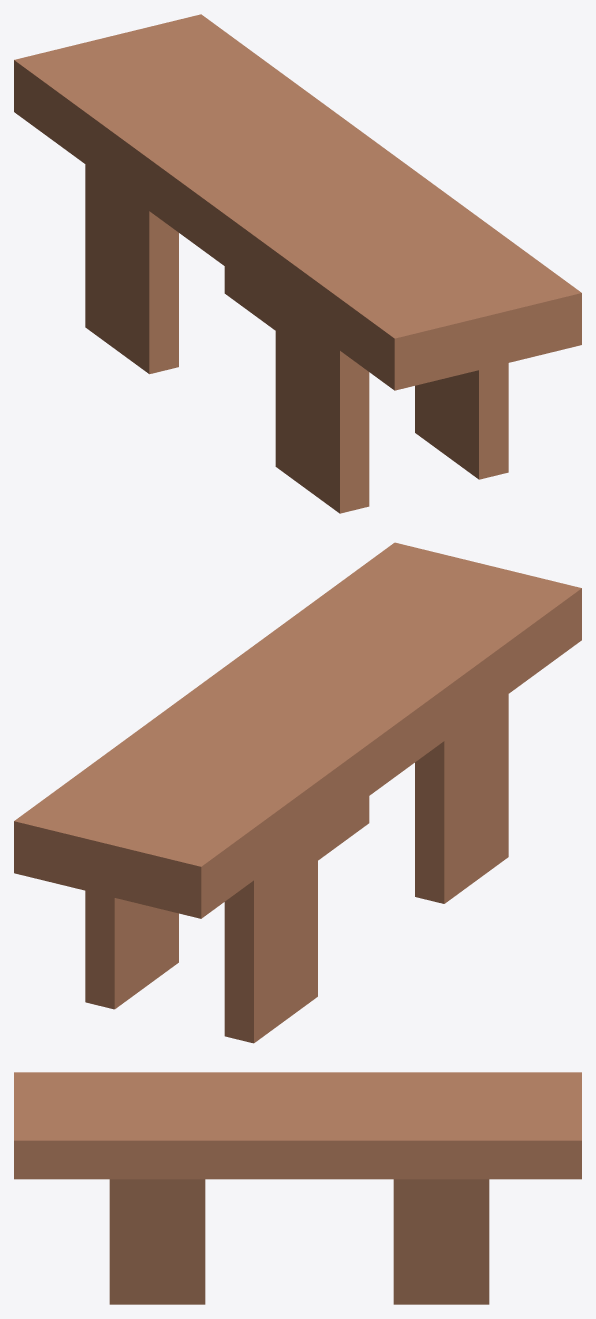
Rendered from bench.fbx.
3 renders of one model, top to bottom at view 1: azimuth 30°, elevation 25°; view 2: azimuth 150°, elevation 25°; view 3: azimuth 270°, elevation 25°, orthographic. The views are drawn at different scales.
Visible parts, largest first — view 1: Cube; view 2: Cube; view 3: Cube.
Boxes of the visible parts, bbox=[...] form: Cube: bbox=[14, 14, 581, 513]; Cube: bbox=[14, 542, 581, 1043]; Cube: bbox=[14, 1072, 581, 1304].
Bounding box in the file's own units: 56.79 × 65 × 200.
